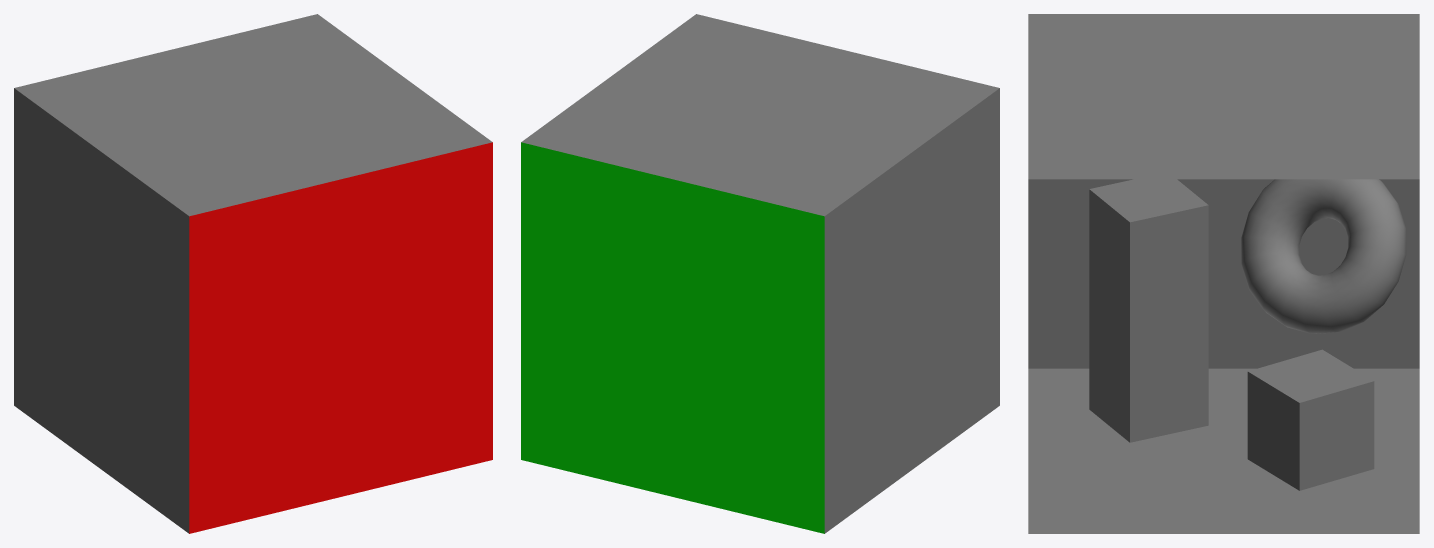
File: cornellDonutBig.obj
3 views of the same model, side by side, from view 1: azimuth 30°, elevation 25°; view 2: azimuth 150°, elevation 25°; view 3: azimuth 270°, elevation 25° (orthographic). The views are drawn at different scales.
Visible parts, largest first — view 1: group1 polySurface4, group1 polySurface3; view 2: group1 polySurface4, group1 polySurface2; view 3: group1 polySurface4, group1 pCube2, pTorus1 group1, group1 pCube3.
Boxes of the visible parts, x1,y1,x2,y2 form: group1 polySurface4: [14, 14, 492, 533]; group1 polySurface3: [189, 142, 492, 533]; group1 polySurface4: [521, 14, 999, 533]; group1 polySurface2: [521, 142, 824, 533]; group1 polySurface4: [1028, 14, 1419, 533]; group1 pCube2: [1089, 179, 1208, 442]; pTorus1 group1: [1241, 179, 1406, 333]; group1 pCube3: [1247, 349, 1374, 490].
Size of the model in its own units: 107 by 107 by 107.
